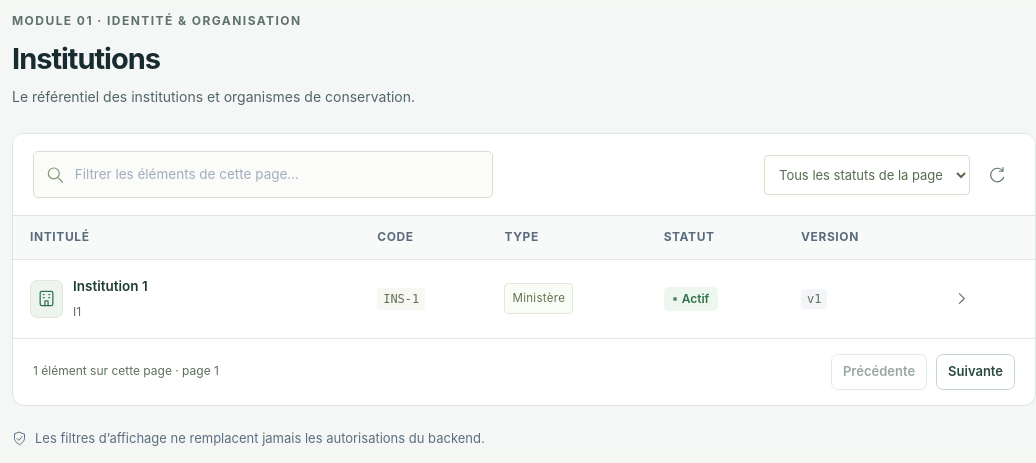
Test: la pagination suit le serveur : suivante demande la page d’après, précédente est inactive sur la première
Expected: the text "Institution 1" is shown, [73,276,148,297]
Expected: the button "Précédente" is disabled, [831,354,927,390]
Step 1. Click the button "Suivante" → x=976, y=372, box [936,354,1015,390]
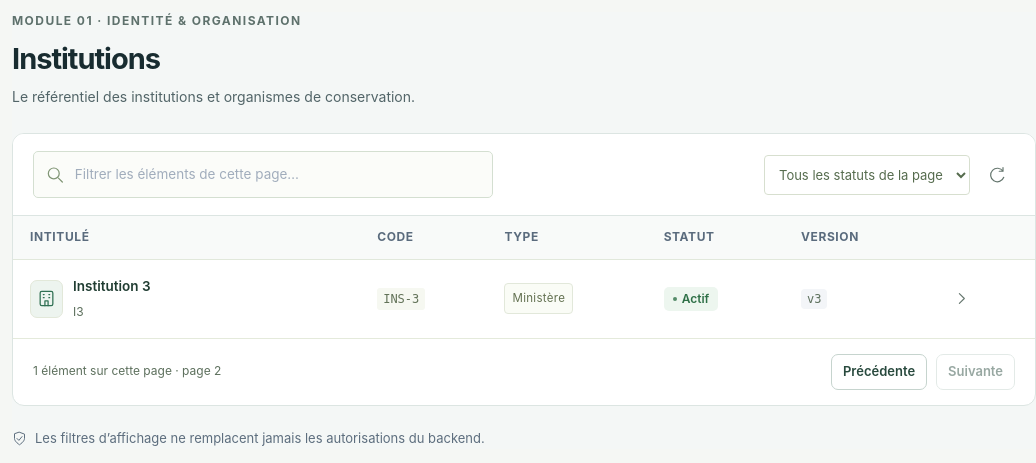
Now the text "Institution 3" is shown, box [73,276,150,297]
Now the button "Suivante" is disabled, box [936,354,1015,390]
Step 2. Click the button "Précédente" → x=879, y=372, box [831,354,927,390]
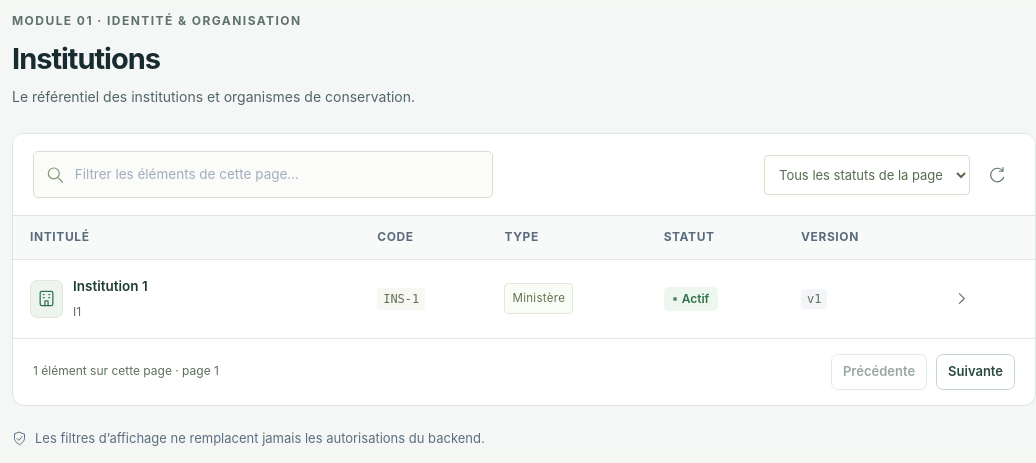
Now the text "Institution 1" is shown, box [73,276,148,297]
